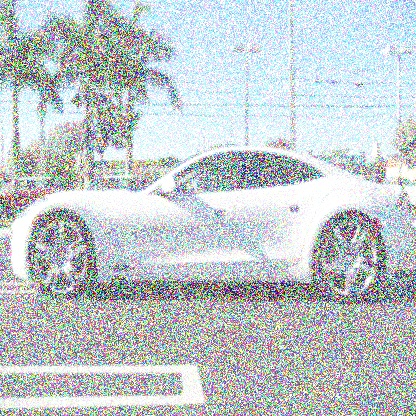Vehicle: (10, 145, 415, 307)
